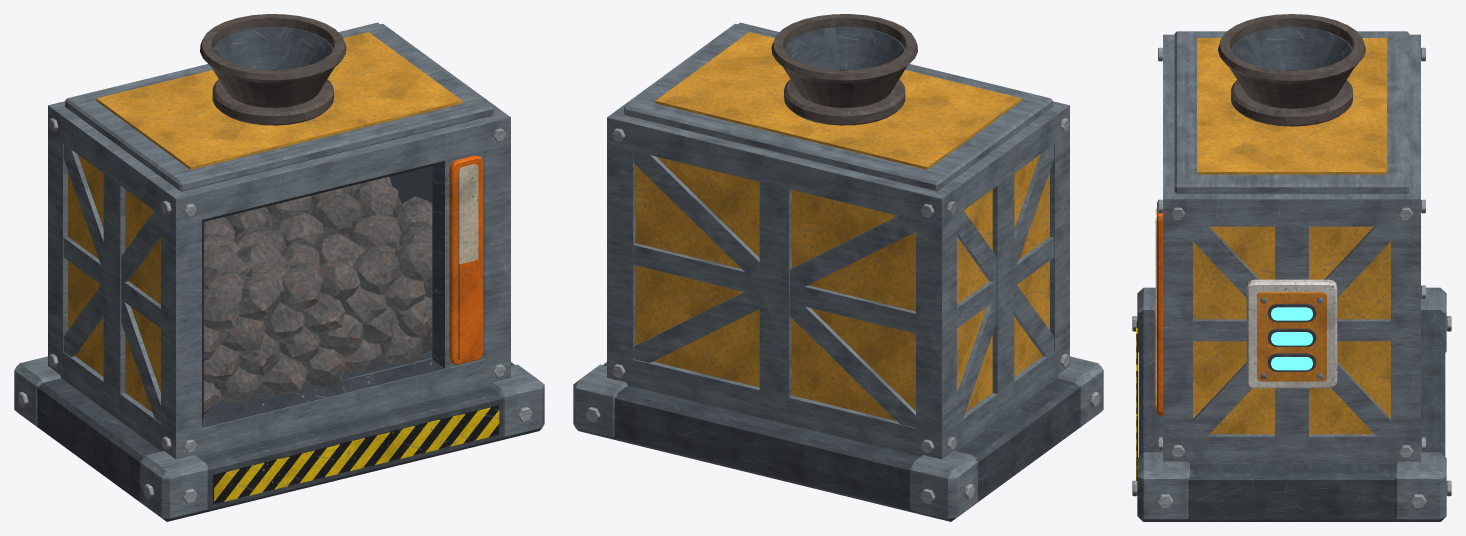
File: ore_bin.fbx
3 renders of one model, left to right at view 1: azimuth 30°, elevation 25°; view 2: azimuth 150°, elevation 25°; view 3: azimuth 270°, elevation 25°, orthographic.
Visible parts, largest first — view 1: OreBin_SteelGrey, OreBin_GlassDark, OreBin_Fill_OreRock, OreBin_Lid_Amber, OreBin_SteelDark, OreBin_Lid_SteelGrey, OreBin_Lid_Gunmetal, OreBin_DarkGrey, OreBin_Amber, OreBin_Yellow, OreBin_Black, OreBin_Lid_SteelDark (+4 smaller); view 2: OreBin_SteelGrey, OreBin_Amber, OreBin_SteelDark, OreBin_Lid_Amber, OreBin_Lid_SteelGrey, OreBin_Lid_Gunmetal, OreBin_Lid_SteelDark, OreBin_SteelLight; view 3: OreBin_SteelGrey, OreBin_SteelDark, OreBin_Amber, OreBin_Lid_Amber, OreBin_Lid_SteelGrey, OreBin_Lid_Gunmetal, OreBin_Lid_SteelDark, OreBin_Orange, OreBin_White, OreBin_SteelLight, OreBin_Cyan, OreBin_GaugeOrange (+1 smaller).
Part boxes in pixels (x1,y1,x2,y2): OreBin_SteelGrey: (14, 23, 544, 518); OreBin_GlassDark: (204, 166, 433, 415); OreBin_Fill_OreRock: (204, 177, 432, 414); OreBin_Lid_Amber: (96, 32, 462, 169); OreBin_SteelDark: (16, 362, 541, 521); OreBin_Lid_SteelGrey: (65, 22, 493, 191); OreBin_Lid_Gunmetal: (200, 14, 346, 125); OreBin_DarkGrey: (202, 161, 444, 427); OreBin_Amber: (68, 154, 160, 412); OreBin_Yellow: (214, 407, 499, 501); OreBin_Black: (213, 405, 498, 503); OreBin_Lid_SteelDark: (213, 26, 333, 69); OreBin_SteelGrey: (573, 23, 1103, 518); OreBin_Amber: (635, 154, 1049, 420); OreBin_SteelDark: (576, 362, 1101, 521); OreBin_Lid_Amber: (655, 32, 1021, 169); OreBin_Lid_SteelGrey: (624, 22, 1052, 191); OreBin_Lid_Gunmetal: (771, 14, 917, 125); OreBin_Lid_SteelDark: (784, 26, 904, 69); OreBin_SteelLight: (585, 118, 1100, 503); OreBin_SteelGrey: (1137, 34, 1446, 519); OreBin_SteelDark: (1138, 304, 1445, 521); OreBin_Amber: (1193, 226, 1390, 434); OreBin_Lid_Amber: (1197, 38, 1386, 174); OreBin_Lid_SteelGrey: (1174, 31, 1409, 193); OreBin_Lid_Gunmetal: (1218, 14, 1365, 126); OreBin_Lid_SteelDark: (1231, 27, 1352, 70); OreBin_Orange: (1257, 292, 1326, 381); OreBin_White: (1246, 279, 1337, 388); OreBin_SteelLight: (1132, 47, 1451, 508); OreBin_Cyan: (1271, 307, 1312, 370); OreBin_GaugeOrange: (1157, 201, 1162, 415).
Size of the model in its own units: 9.35 by 8.67 by 6.55.
16 materials, 14 textured.
